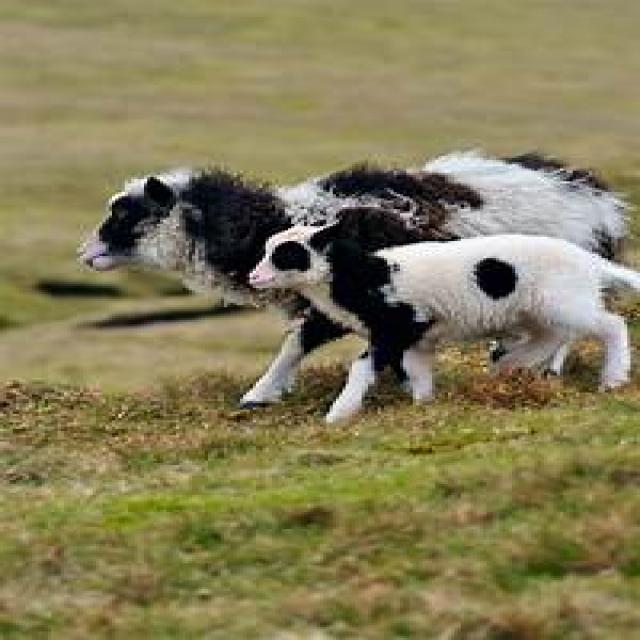animal: (74, 147, 634, 412), (254, 215, 630, 402)
